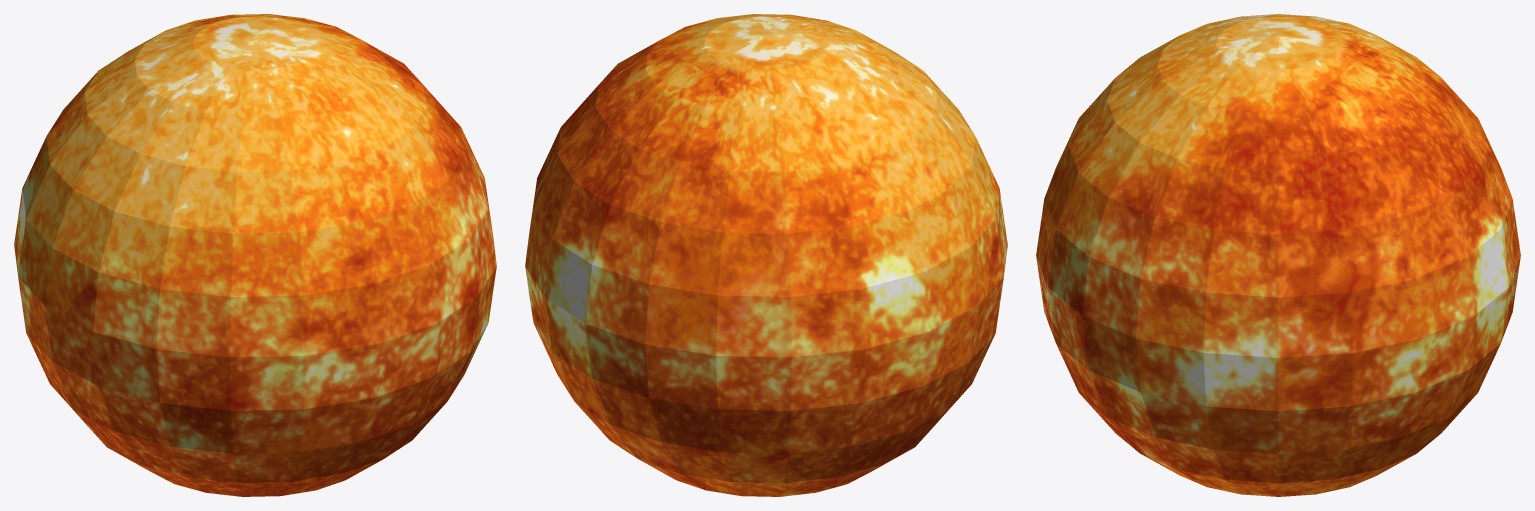
The model's file is Sol.glb.
3 views of the same model, side by side, from view 1: azimuth 30°, elevation 25°; view 2: azimuth 150°, elevation 25°; view 3: azimuth 270°, elevation 25° (orthographic).
Parts seen in each view (by area): view 1: Sol; view 2: Sol; view 3: Sol.
Part boxes in pixels (left/top/right/bottom): Sol: left=14, top=14, right=496, bottom=496; Sol: left=525, top=14, right=1007, bottom=496; Sol: left=1036, top=14, right=1520, bottom=496.
Bounding box in the file's own units: 2 × 2 × 2.
Materials: 1 (1 with a texture image).
